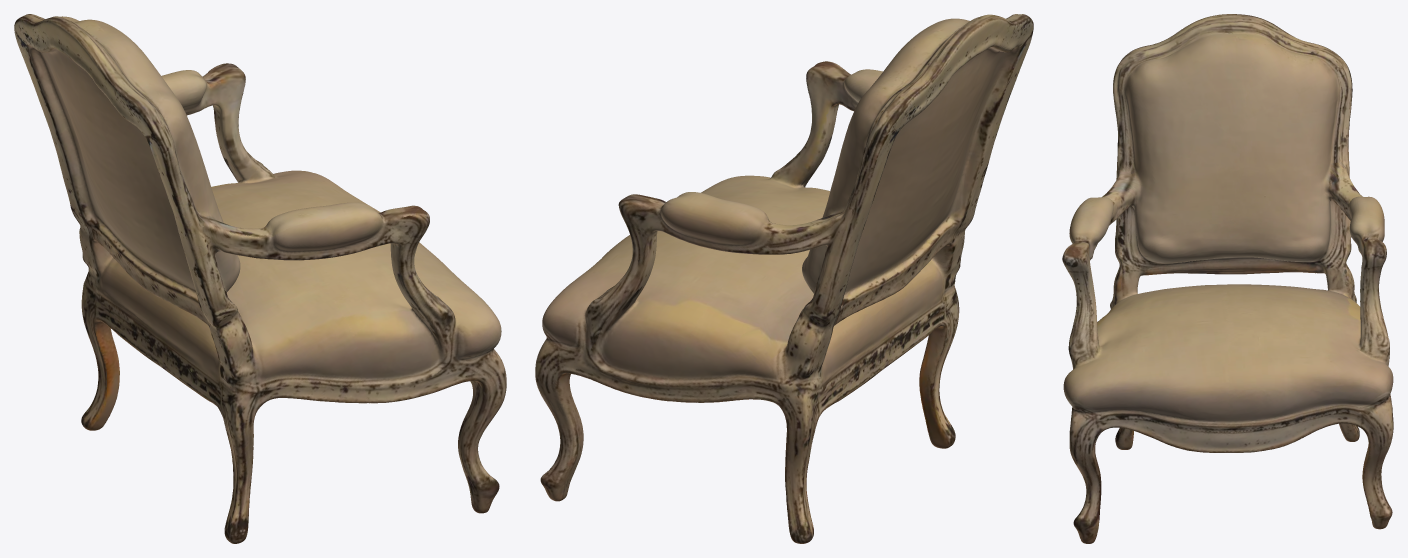
Rendered from 3Dchably.glb.
3 views of the same model, side by side, from view 1: azimuth 30°, elevation 25°; view 2: azimuth 150°, elevation 25°; view 3: azimuth 270°, elevation 25° (orthographic). The views are drawn at different scales.
Parts seen in each view (by area): view 1: tripo_node_fb9306d3-36e0-4126-a673-f195517bf7d4; view 2: tripo_node_fb9306d3-36e0-4126-a673-f195517bf7d4; view 3: tripo_node_fb9306d3-36e0-4126-a673-f195517bf7d4.
Part boxes in pixels (x1,y1,x2,y2): tripo_node_fb9306d3-36e0-4126-a673-f195517bf7d4: [14, 14, 506, 543]; tripo_node_fb9306d3-36e0-4126-a673-f195517bf7d4: [535, 14, 1033, 543]; tripo_node_fb9306d3-36e0-4126-a673-f195517bf7d4: [1062, 14, 1393, 543].
Bounding box in the file's own units: 0.7033 × 0.9464 × 0.7065.
Materials: 1 (1 with a texture image).
